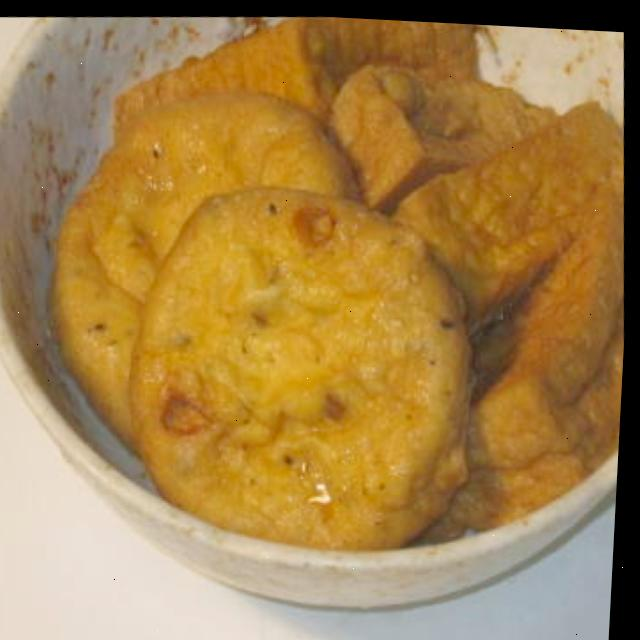熟制海鲜: (0, 0, 640, 638)
